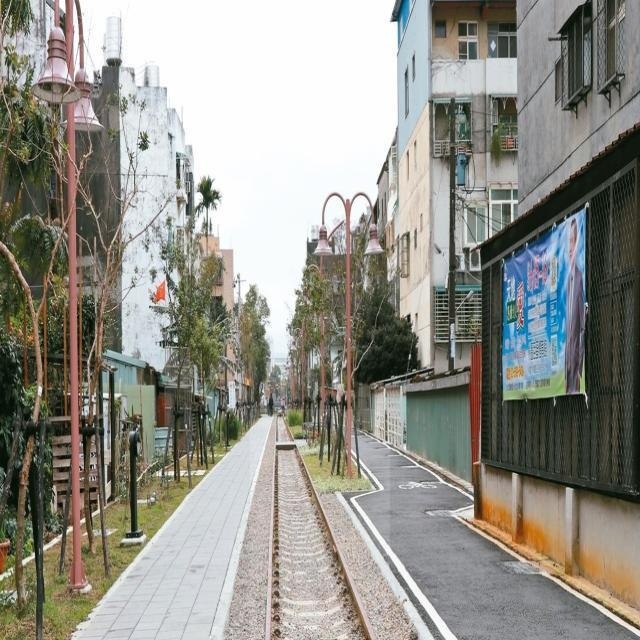rail: (251, 410, 391, 640)
